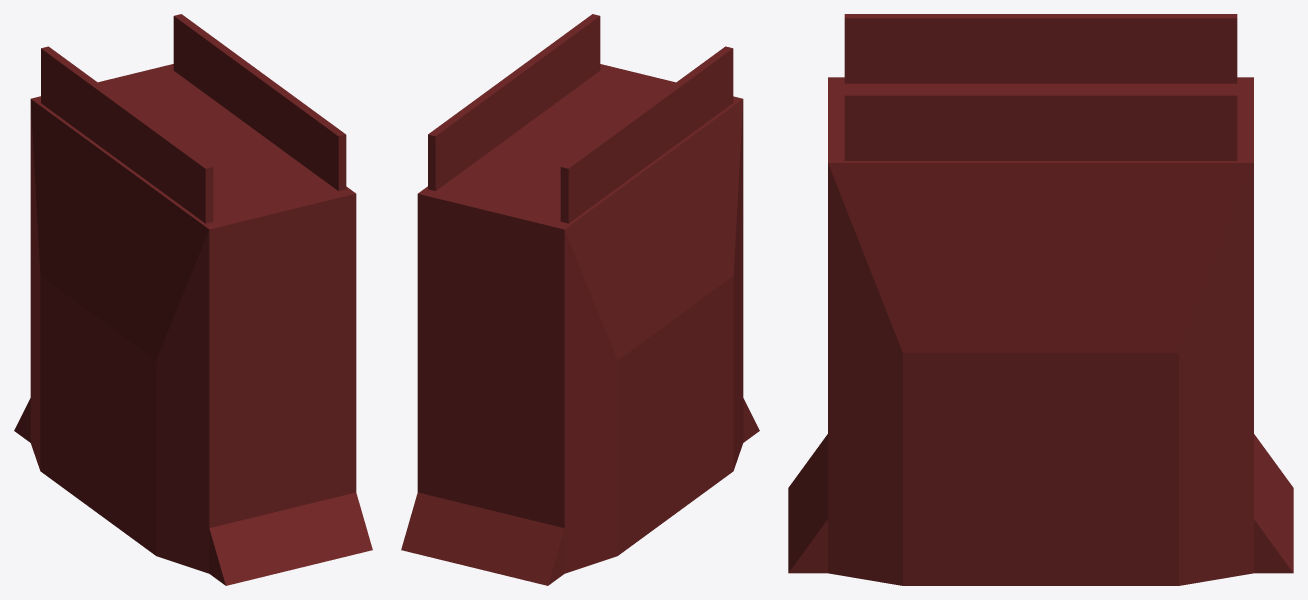
Rendered from LSC611AW.gltf.
3 views of the same model, side by side, from view 1: azimuth 30°, elevation 25°; view 2: azimuth 150°, elevation 25°; view 3: azimuth 270°, elevation 25° (orthographic). The views are drawn at different scales.
Visible parts, largest first — view 1: LSC611AW; view 2: LSC611AW; view 3: LSC611AW.
Boxes of the visible parts, x1,y1,x2,y2 form: LSC611AW: (14,14,372,585); LSC611AW: (401,14,759,585); LSC611AW: (788,14,1293,585).
Size of the model in its own units: 0.1703 by 0.3411 by 0.3284.
